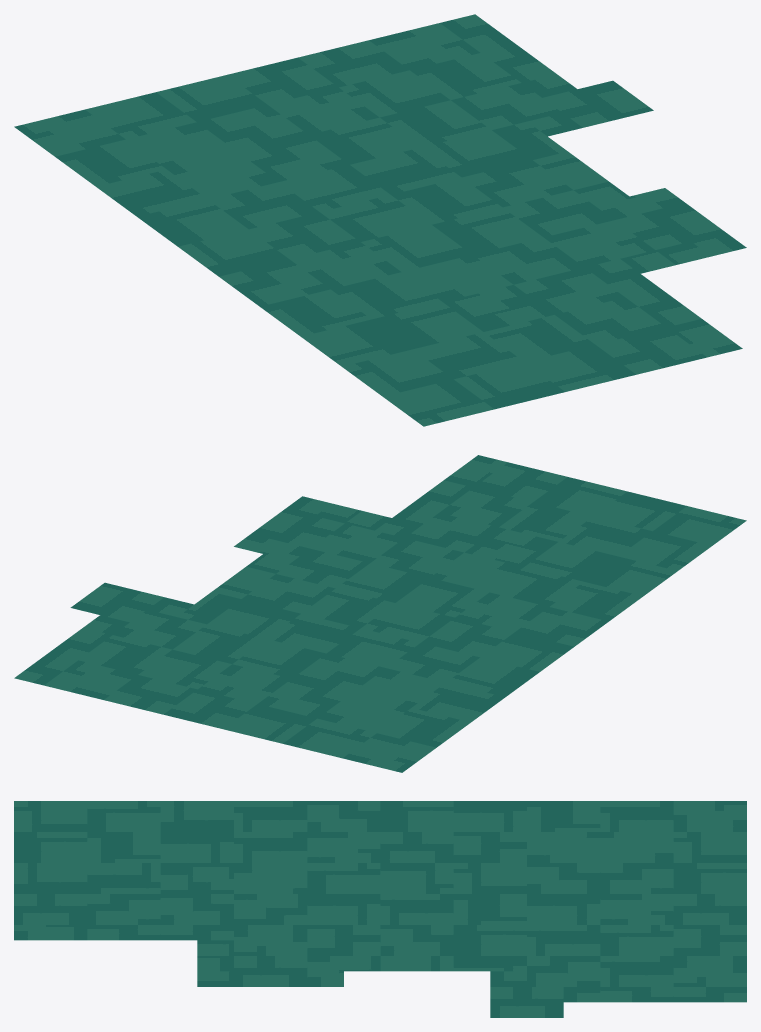
The model's file is swamp-diorama-grass.gltf.
The picture shows the model from 3 angles, top to bottom: view 1: azimuth 30°, elevation 25°; view 2: azimuth 150°, elevation 25°; view 3: azimuth 270°, elevation 25°; orthographic projection. The views are drawn at different scales.
Visible parts, largest first — view 1: swamp-grass-MERGED; view 2: swamp-grass-MERGED; view 3: swamp-grass-MERGED.
Boxes of the visible parts, <box> form: swamp-grass-MERGED: <box>14,14,746,426</box>; swamp-grass-MERGED: <box>14,455,746,772</box>; swamp-grass-MERGED: <box>14,801,746,1017</box>.
Bounding box in the file's own units: 11.2 × 0 × 16.
1 material, 1 textured.
